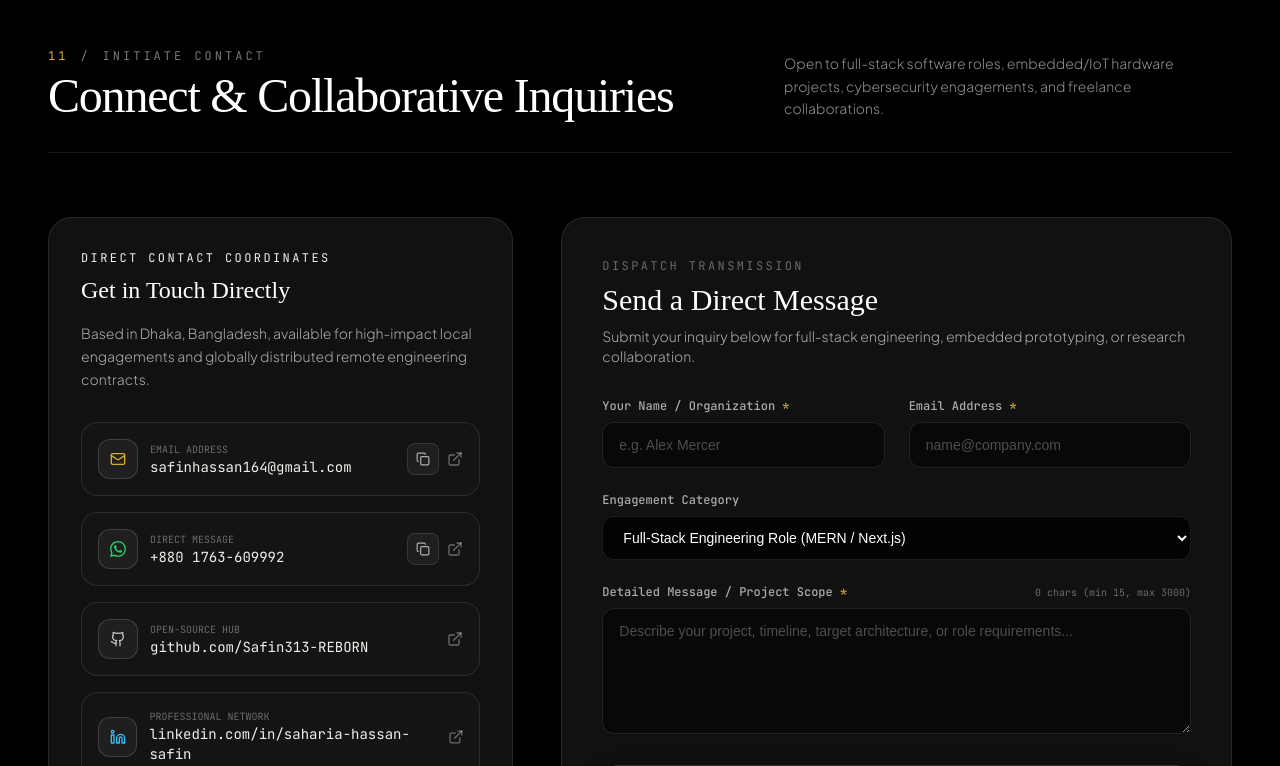
Scenario: ContactSection User Journey & Boundary Validation › validates minimum message length of 15 characters
The width and height of the screenshot is (1280, 766).
In the field labelled "Your Name / Organization *": (743, 445) [602, 422, 885, 468], type "Jane Doe"
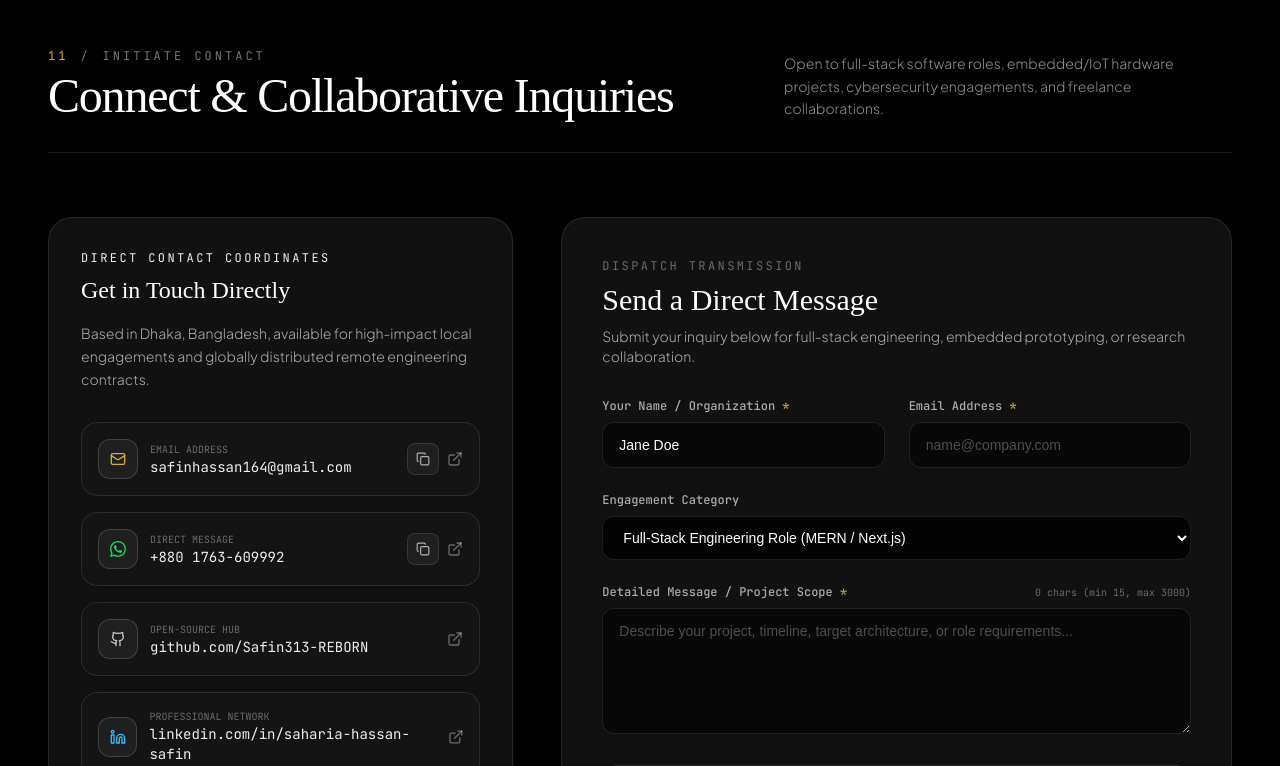
In the field labelled "Email Address *": (1050, 445) [909, 422, 1191, 468], type "jane@example.com"
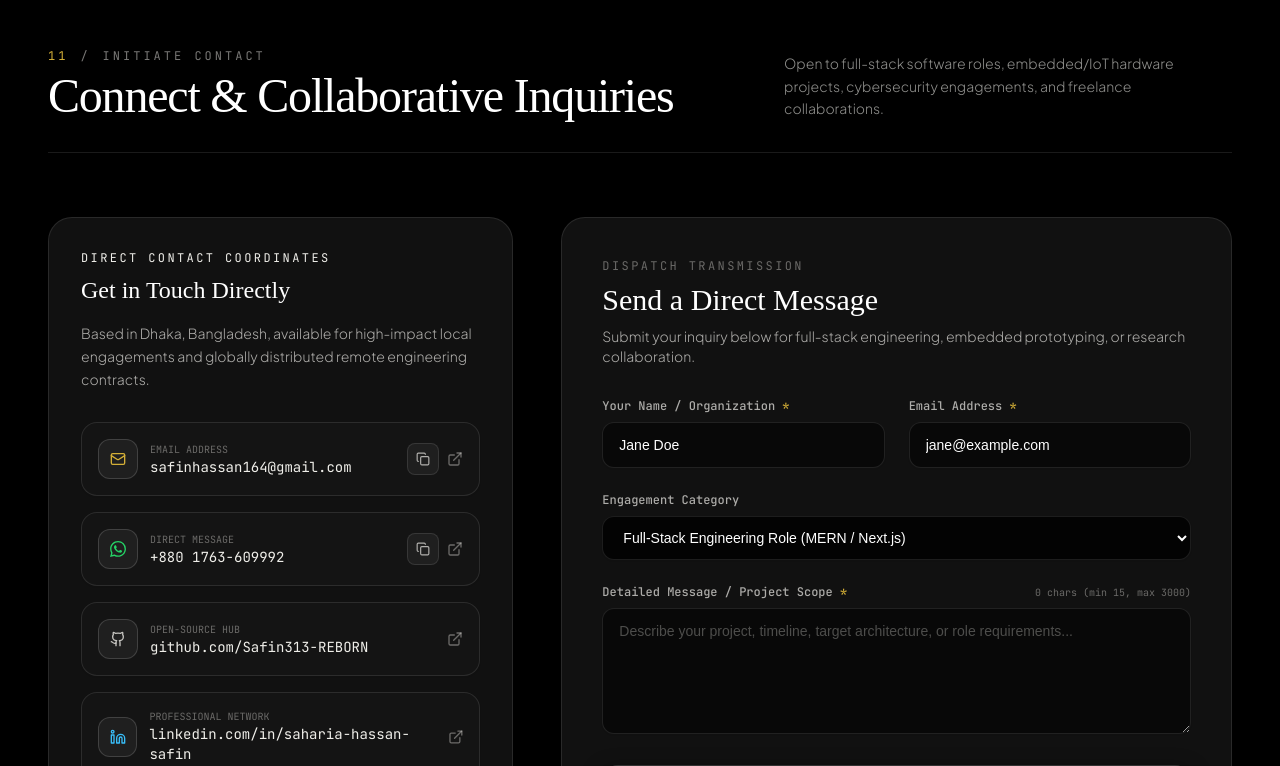
Replace the text in the text box labelled "Detailed Message / Project Scope *" with "Too short": (897, 671) [602, 608, 1191, 734]
(page scrolled)
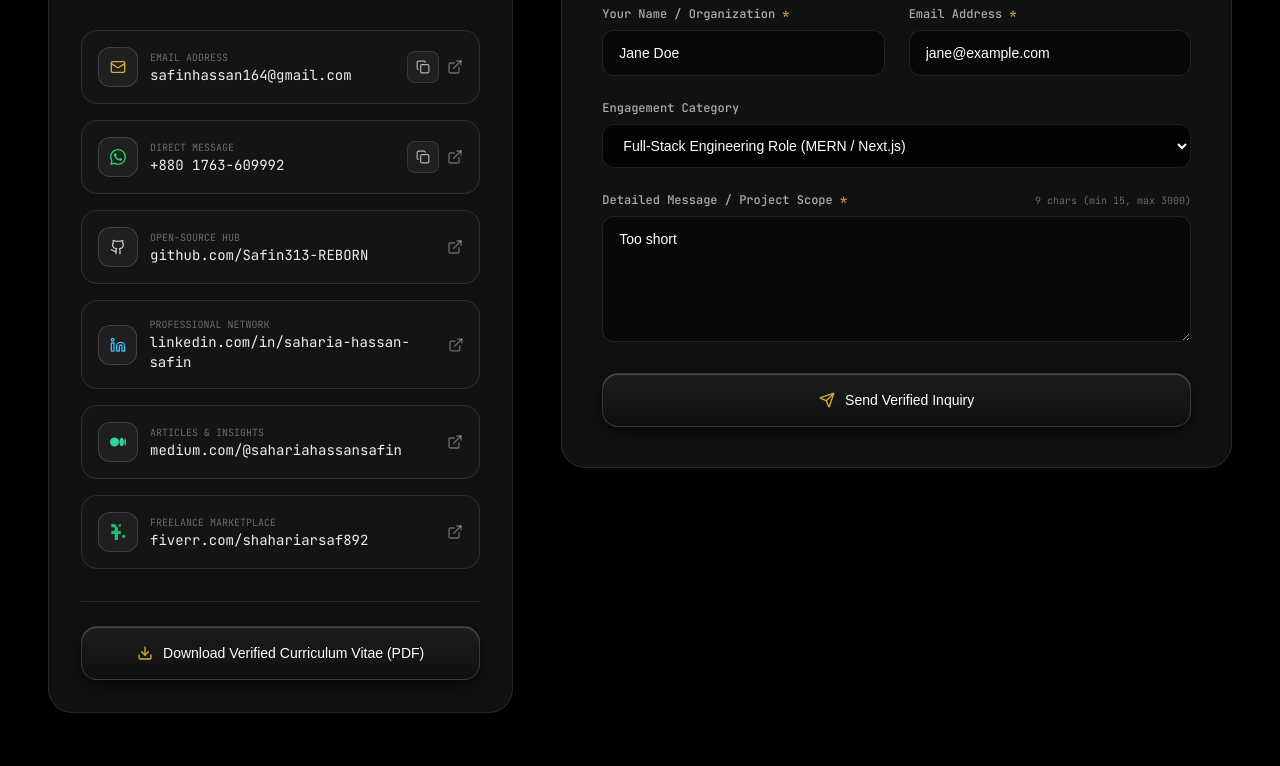
Click the button "Send Verified Inquiry": (897, 400) [602, 373, 1191, 427]
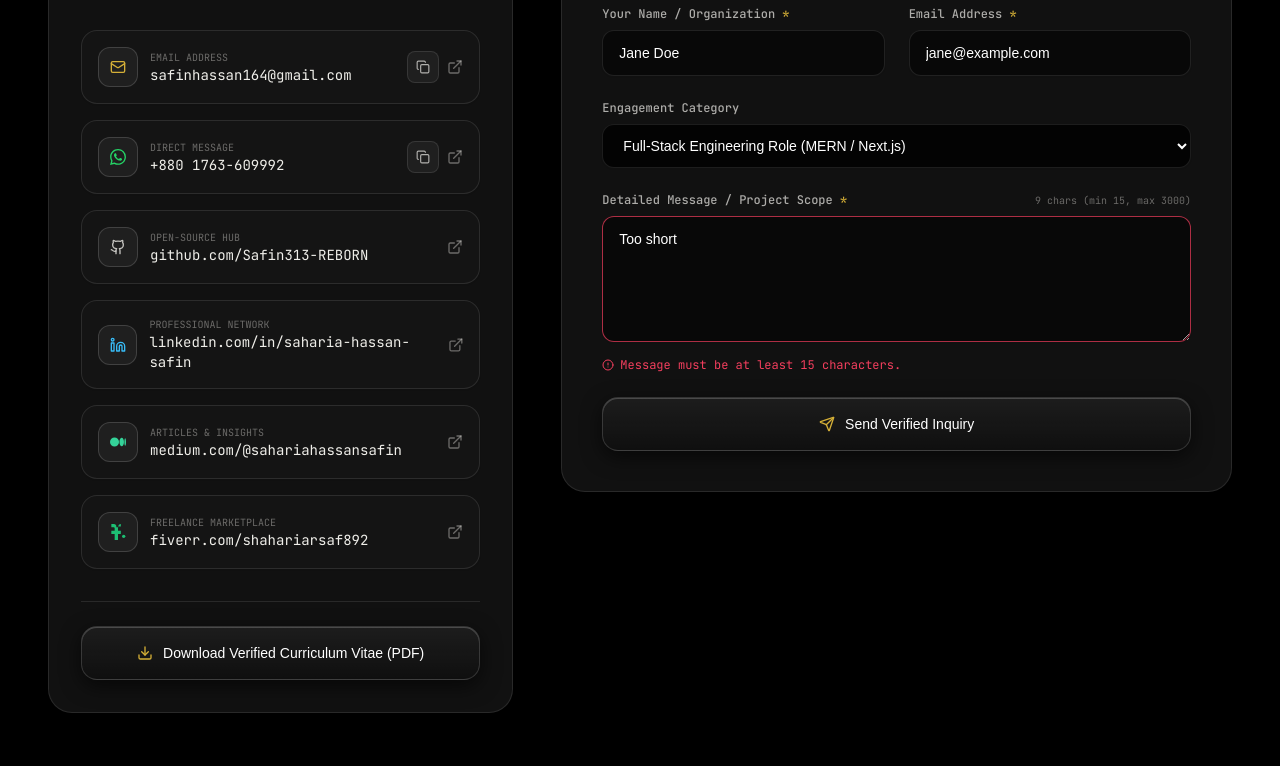
Expected: the text "Message must be at least 15 characters." is shown, [620, 357, 901, 373]
